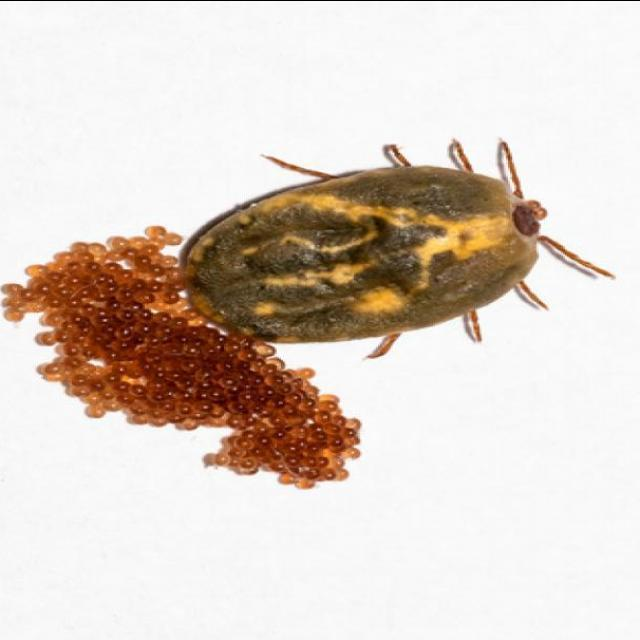Rhipicephalus Sanguineus-F-Fed: (177, 139, 608, 353)
